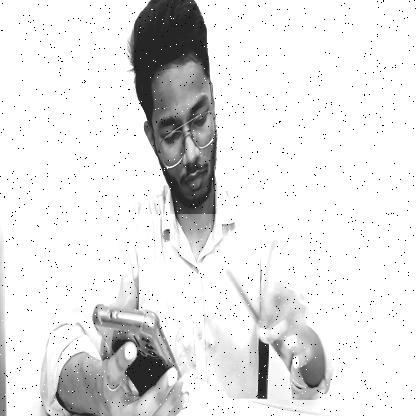Distracted: (134, 0, 228, 214)
